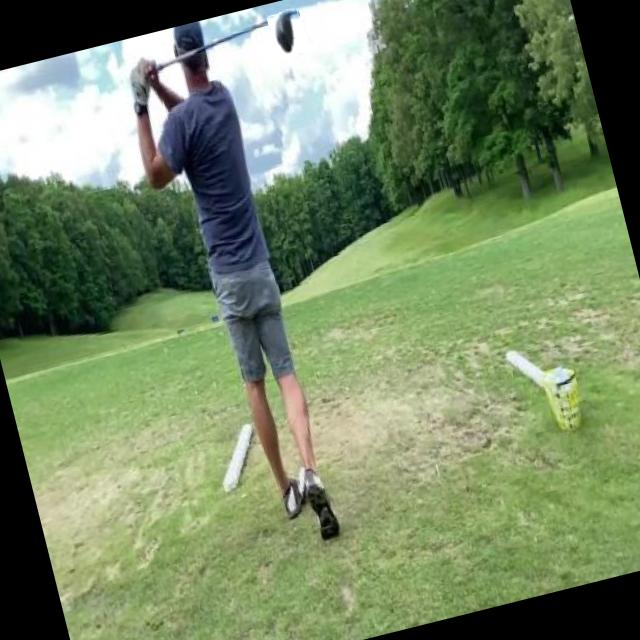club head: (266, 7, 310, 58)
